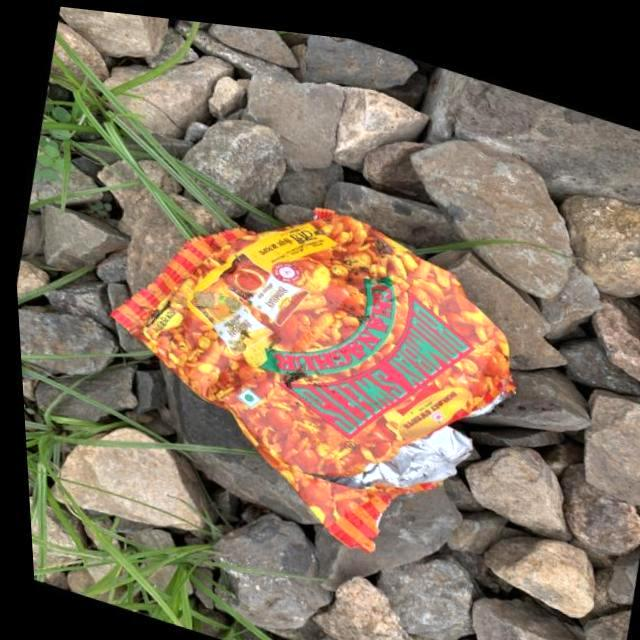packet: (110, 149, 559, 555)
